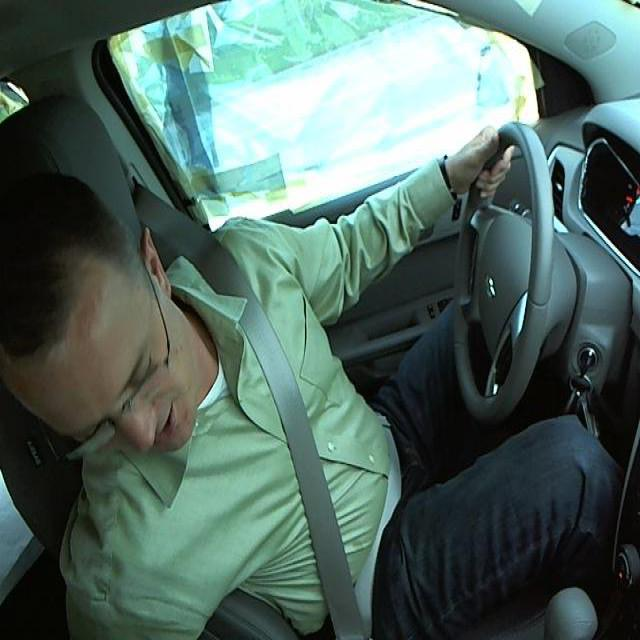seatbelt: (214, 292, 404, 608)
